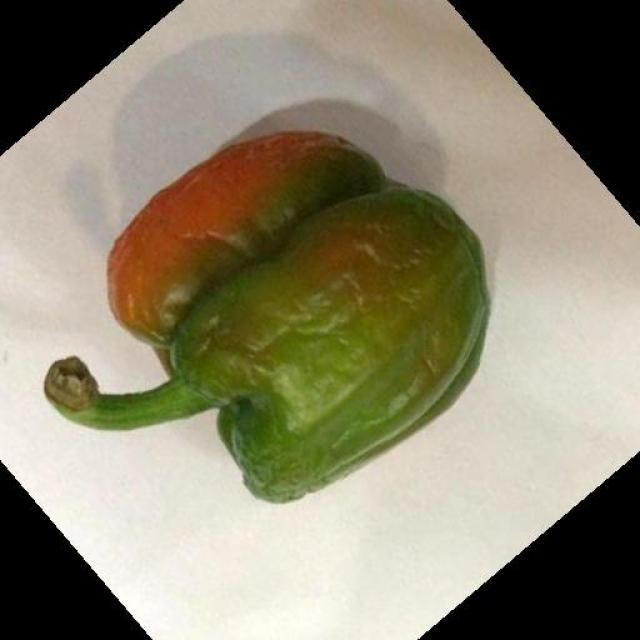Stale_Capsicum: (122, 149, 492, 462)
